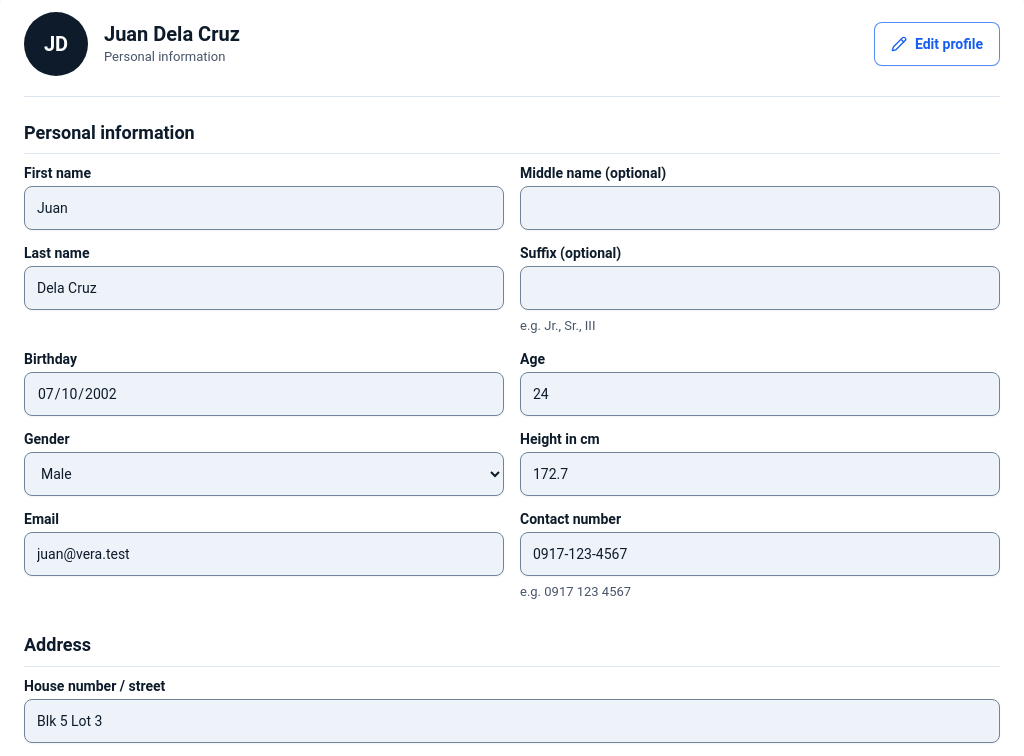
it: ProfileCard › discards changes on Cancel
The image size is (1024, 756).
Click the button "Edit profile" at (937, 44), box [874,22,1000,66]
(page scrolled)
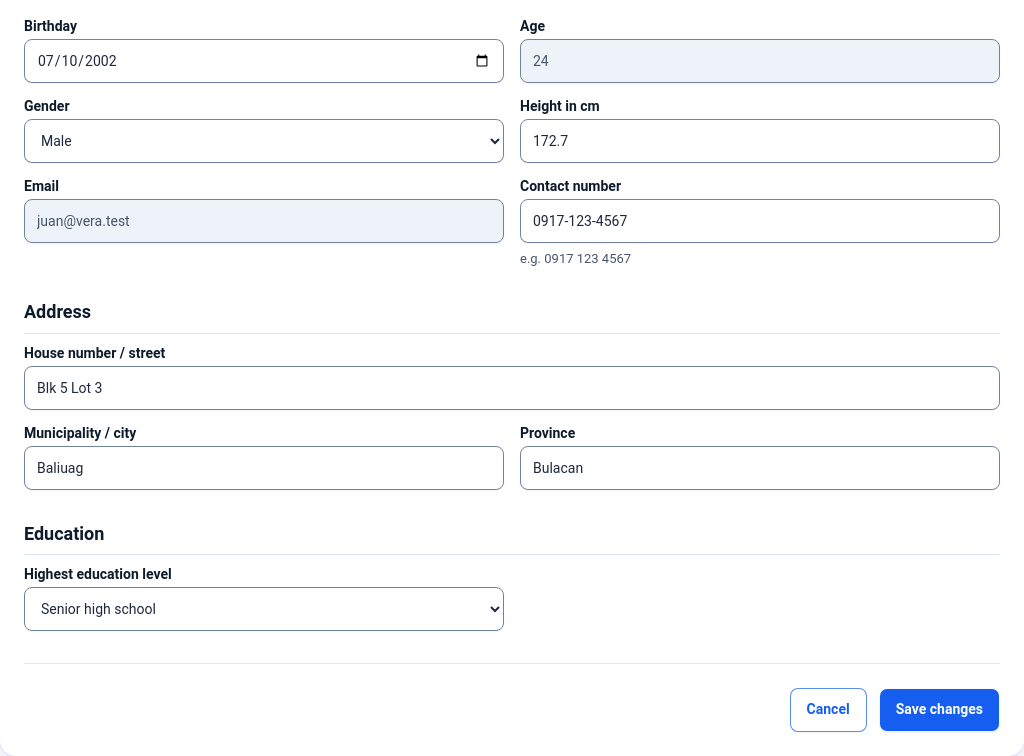
Replace the text in the field labelled "Municipality / city" with "Malolos" at (264, 468), box [24,446,504,490]
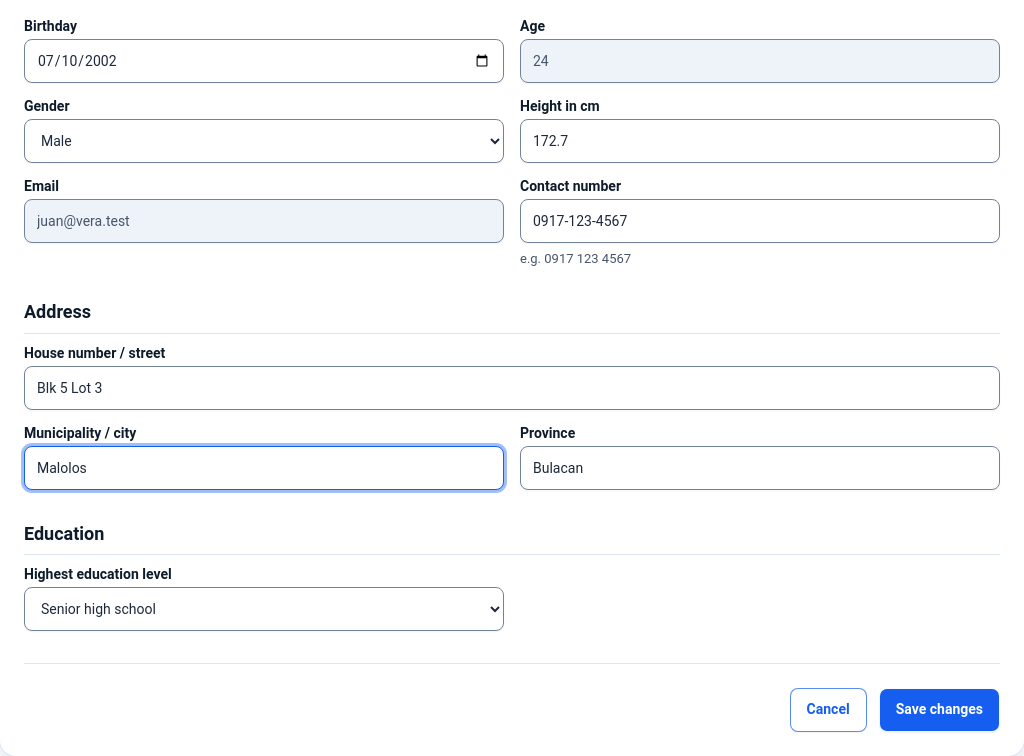
Click the button "Cancel" at (828, 710), box [790,688,867,732]
(page scrolled)
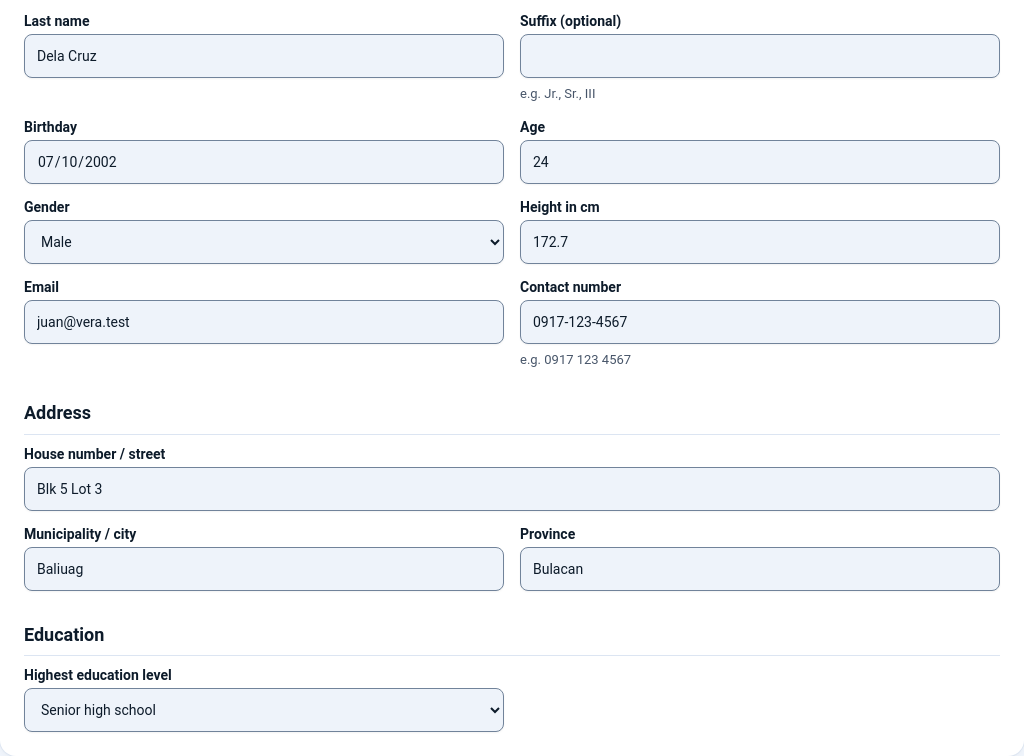
Expected: the field labelled "Municipality / city" holds "Baliuag", [24,547,504,591]
